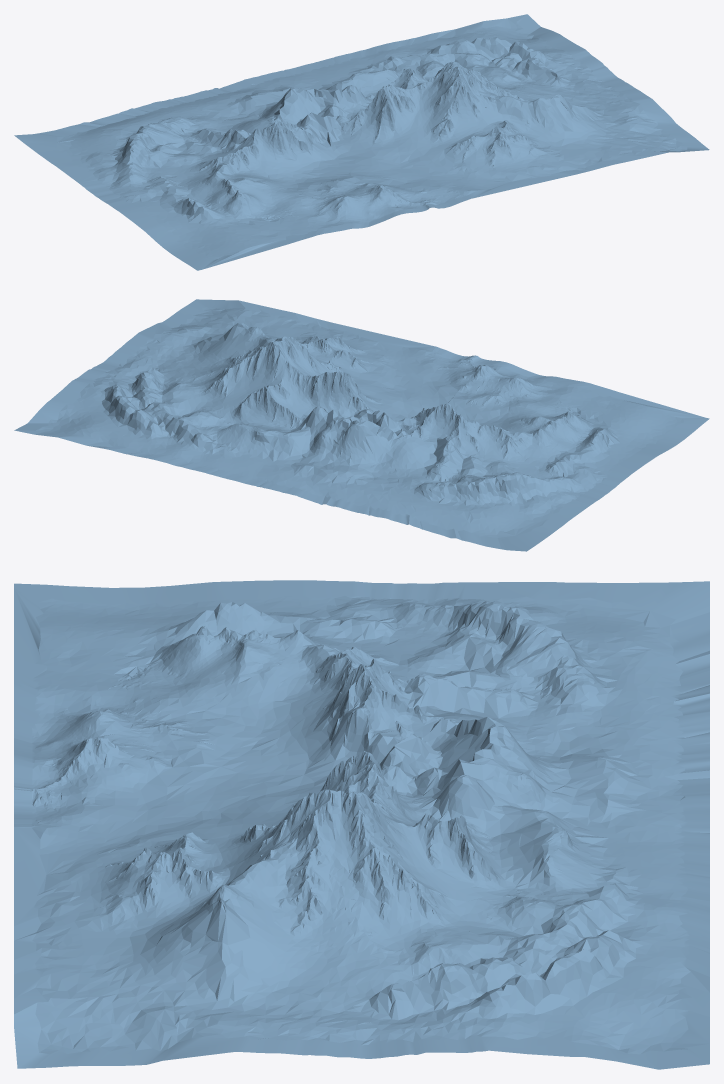
The model's file is CNG_Mo_GYSP_All(2).fbx.
3 views of the same model, one above another, from view 1: azimuth 30°, elevation 25°; view 2: azimuth 150°, elevation 25°; view 3: azimuth 270°, elevation 25° (orthographic). The views are drawn at different scales.
Parts seen in each view (by area): view 1: CNG_Mo_GYSP_All; view 2: CNG_Mo_GYSP_All; view 3: CNG_Mo_GYSP_All.
Part boxes in pixels (left/top/right/bottom): CNG_Mo_GYSP_All: left=14, top=14, right=709, bottom=270; CNG_Mo_GYSP_All: left=14, top=299, right=709, bottom=551; CNG_Mo_GYSP_All: left=14, top=580, right=709, bottom=1069.
Size of the model in its own units: 160 by 19.27 by 99.22.
